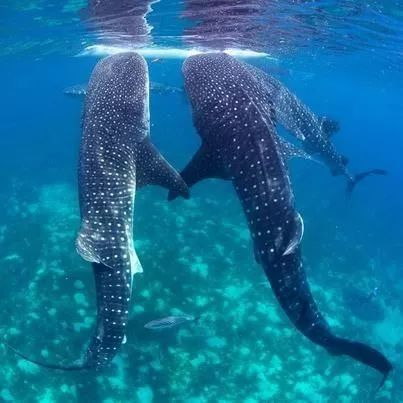shark: (166, 40, 397, 385), (40, 42, 191, 379)
